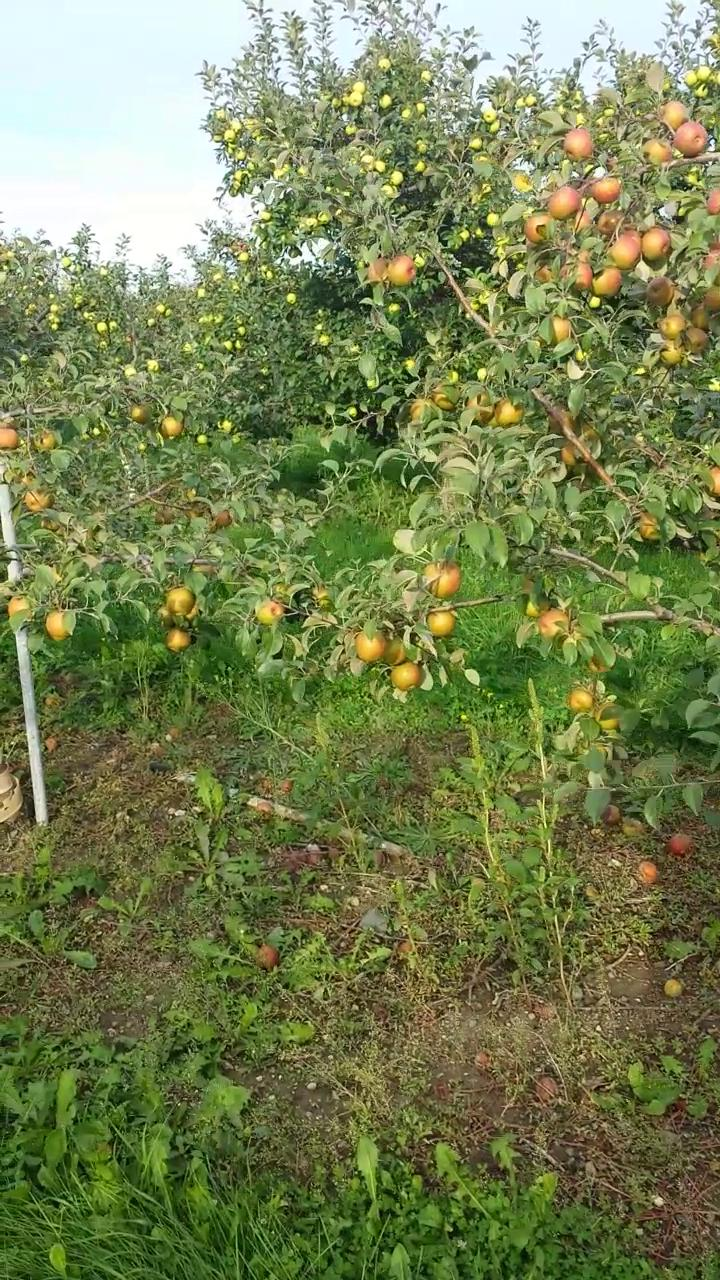Apple: (611, 228, 643, 270), (672, 120, 709, 156), (426, 561, 460, 593), (522, 213, 556, 244), (657, 99, 689, 131), (592, 266, 624, 298), (548, 186, 579, 219), (562, 125, 592, 157), (388, 252, 416, 286), (392, 660, 420, 694), (645, 274, 676, 304), (494, 395, 524, 425), (546, 403, 574, 435), (22, 486, 55, 513), (642, 225, 668, 259), (356, 629, 386, 658), (537, 606, 569, 633), (643, 137, 673, 165), (167, 585, 197, 613), (658, 311, 687, 338), (682, 325, 709, 354), (634, 511, 661, 540), (592, 175, 620, 202), (426, 610, 453, 638), (548, 314, 573, 344), (660, 339, 685, 368), (595, 701, 620, 730), (522, 595, 553, 618), (598, 210, 624, 237), (44, 609, 70, 636), (465, 395, 492, 420), (570, 207, 594, 234), (384, 634, 404, 665), (432, 386, 456, 411), (7, 595, 31, 620), (258, 601, 283, 625), (688, 306, 711, 332), (569, 687, 592, 713), (164, 627, 192, 648), (701, 284, 719, 316), (410, 397, 433, 422), (572, 261, 592, 288), (367, 256, 387, 281), (558, 441, 578, 466), (161, 415, 183, 437), (34, 431, 57, 451), (156, 604, 176, 627), (585, 656, 610, 674), (1, 427, 20, 450), (706, 465, 719, 497), (212, 509, 233, 528), (703, 248, 719, 271), (706, 187, 719, 214), (131, 405, 148, 424), (185, 603, 202, 621), (577, 247, 592, 267), (535, 264, 551, 282), (587, 739, 607, 752), (522, 574, 536, 592), (558, 263, 568, 278), (709, 235, 719, 249), (19, 475, 32, 485)
